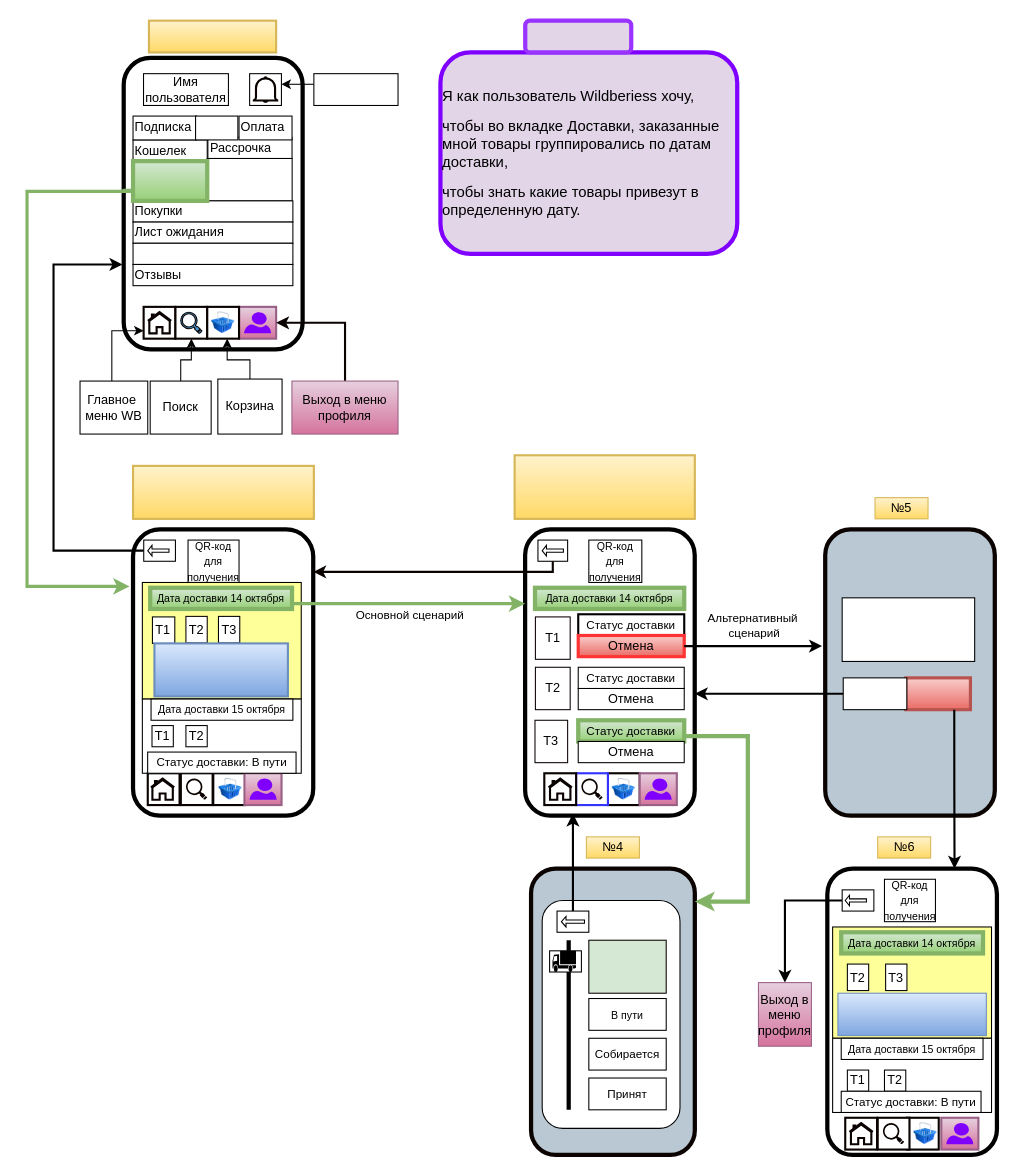
Image size: 1018x1174. Some labels were removed from this diagram. The shapes that lost their labels are listed below. From the top down, each one's centre as x and y in pixels, then its label:
point 212,36: №1. Меню профиля
point 578,36: USER STORY
point 355,89: Уведомления
point 216,127: Скидка
point 169,180: Доставки по дате
point 249,179: Доставки по № заказа
point 212,253: Отложенные
point 222,491: №2. Группировка товаров с доставкой в определенную дату
point 604,486: №3. Статус доставки отдельно по товарам в определенную дату и кнопка "Отмена"
point 908,629: Вы действительно хотите отменить доставку Т1?
point 220,669: Ст атус доставки: Т1 ожидает в ПВ до 16 Т3 ожидает в ПВ до 17 Т2 задерживается
point 874,693: Назад
point 937,693: Отменить
point 627,966: Ожидает выдачи до 17 октября (адрес 1)
point 911,1014: Статус доставки: Т3 ожидает в ПВ до 17, Т2 задерживается
